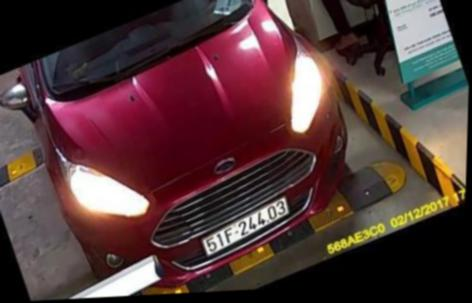License_Plate: (189, 195, 299, 261)
